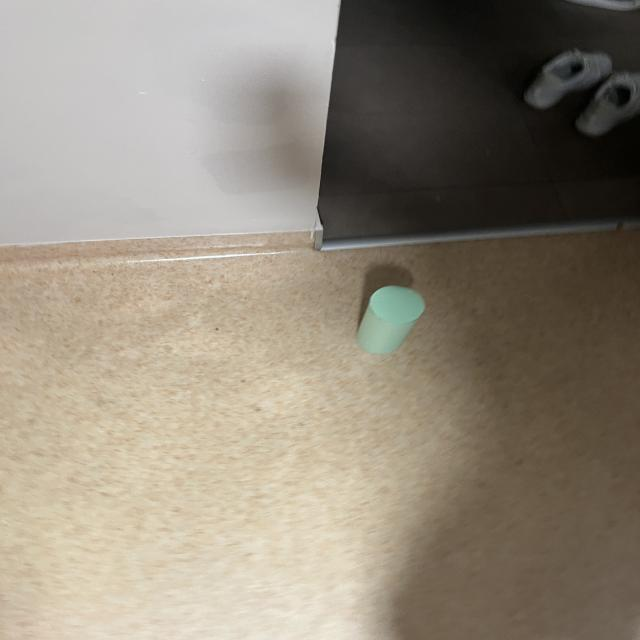meta: (356, 286, 425, 354)
